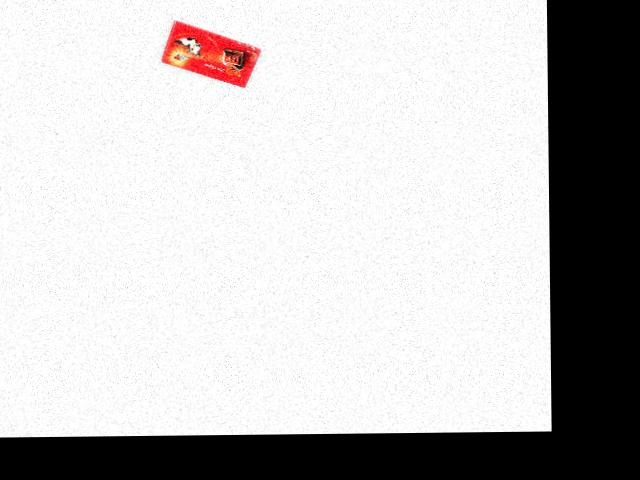chocolate: (163, 19, 262, 90)
